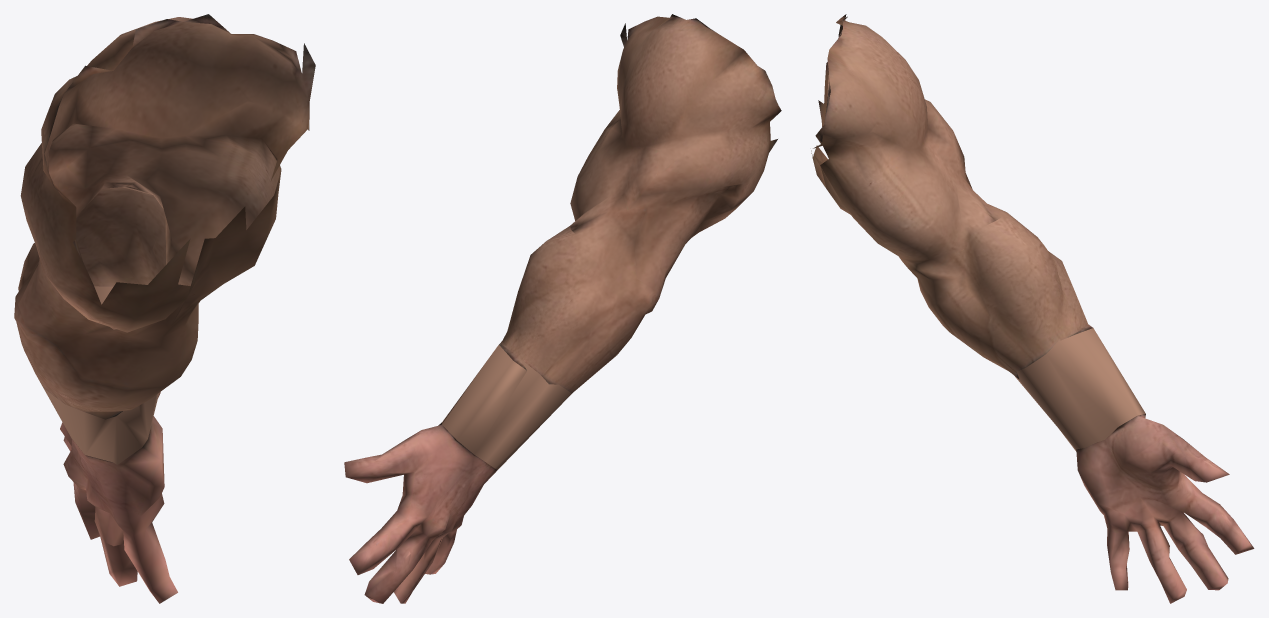
Rendered from body_arm_L.glb.
3 views of the same model, side by side, from view 1: azimuth 30°, elevation 25°; view 2: azimuth 150°, elevation 25°; view 3: azimuth 270°, elevation 25° (orthographic). The views are drawn at different scales.
Parts seen in each view (by area): view 1: body_arm_L; view 2: body_arm_L; view 3: body_arm_L.
Boxes of the visible parts, <box> form: body_arm_L: <box>14,14,315,603</box>; body_arm_L: <box>344,14,781,603</box>; body_arm_L: <box>811,14,1254,603</box>.
Size of the model in its own units: 0.2032 by 0.3875 by 0.3024.
2 materials, 2 textured.
